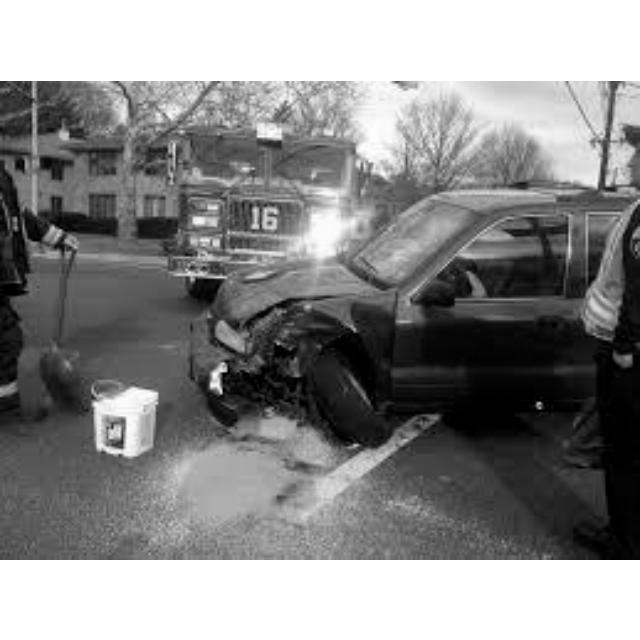bonnet-dent: (223, 254, 353, 313)
fender-dent: (255, 306, 383, 365)
front-bumper-dent: (179, 323, 230, 416)
